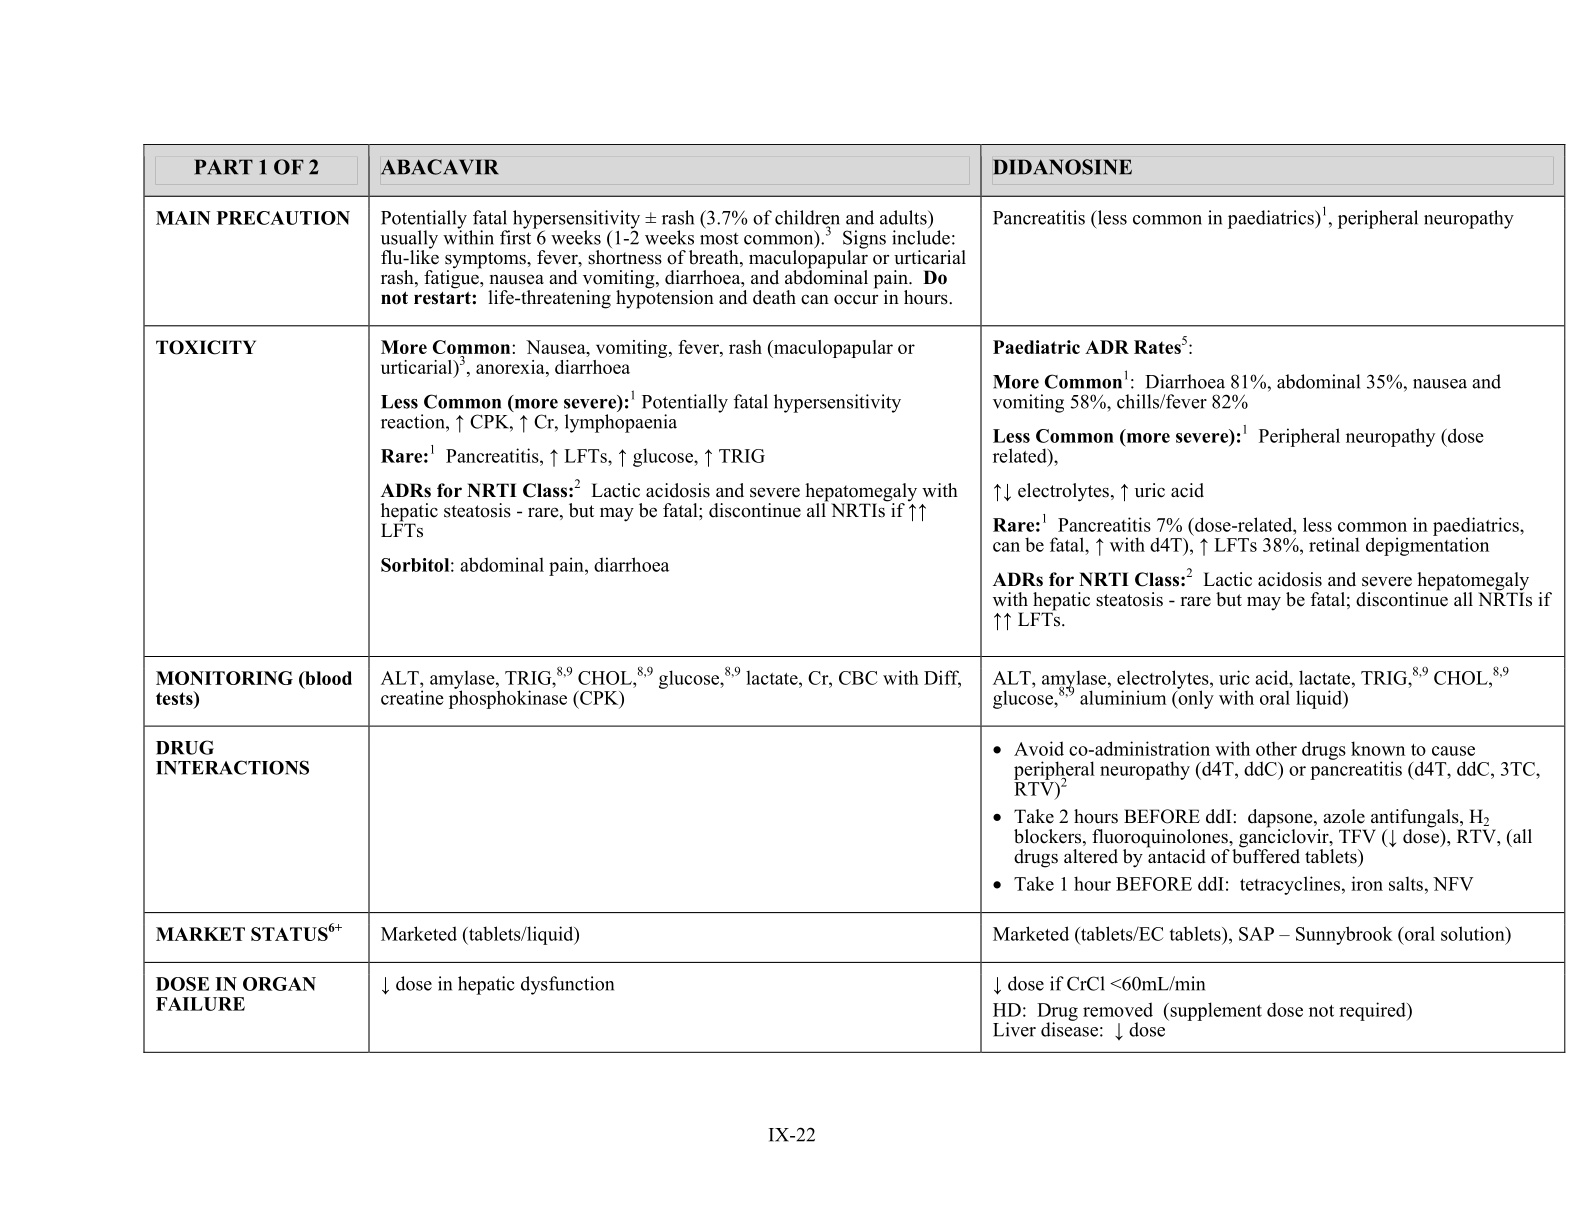full_lined: (138, 138, 1571, 1067)
